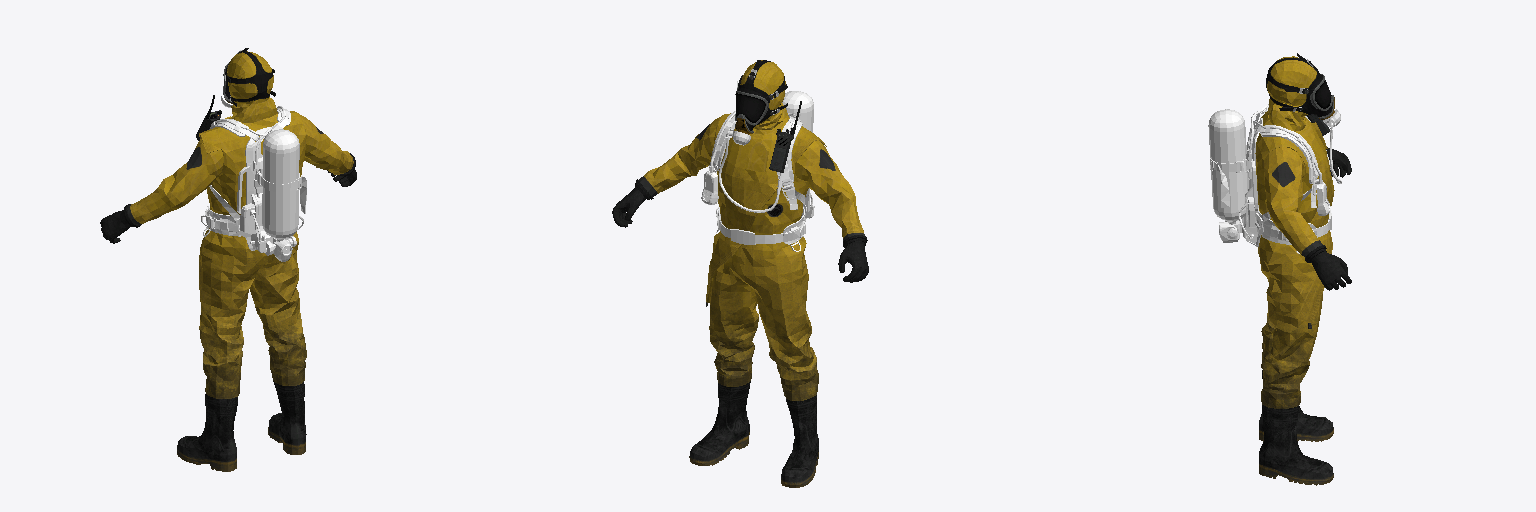
The picture shows the model from 3 angles: view 1: azimuth 30°, elevation 25°; view 2: azimuth 150°, elevation 25°; view 3: azimuth 270°, elevation 25°; orthographic projection.
Parts seen in each view (by area): view 1: 1_Hazmat_Suit, 3_Gear_Pack, 2_Harness, 4_Gloves, 2_Belt; view 2: 1_Hazmat_Suit, 4_Gloves, 2_Harness, 2_Belt, 3_Gear_Pack, 3_Radio, 1_Gasmask_Visor; view 3: 1_Hazmat_Suit, 3_Gear_Pack, 2_Harness, 4_Gloves, 2_Belt.
Part boxes in pixels (x1,y1,x2,y2): 1_Hazmat_Suit: (123, 48, 355, 471); 3_Gear_Pack: (235, 127, 306, 261); 2_Harness: (209, 106, 290, 230); 4_Gloves: (100, 169, 356, 243); 2_Belt: (201, 206, 240, 236); 1_Hazmat_Suit: (635, 60, 867, 487); 4_Gloves: (612, 186, 868, 282); 2_Harness: (709, 111, 805, 209); 2_Belt: (716, 207, 805, 251); 3_Gear_Pack: (782, 91, 814, 219); 3_Radio: (769, 101, 801, 172); 1_Gasmask_Visor: (736, 93, 765, 122); 1_Hazmat_Suit: (1255, 53, 1334, 485); 3_Gear_Pack: (1208, 109, 1263, 246); 2_Harness: (1248, 104, 1326, 229); 4_Gloves: (1311, 147, 1351, 290); 2_Belt: (1258, 205, 1331, 253).
Size of the model in its own units: 87.75 by 134 by 43.19.
10 materials, 3 textured.